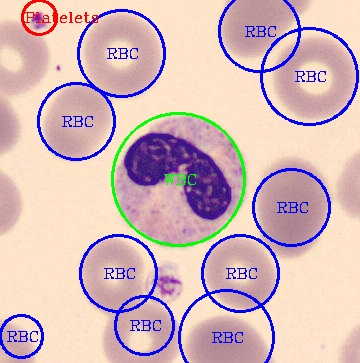Platelets: (145, 259, 187, 305), (25, 6, 52, 32)
RBC: (256, 152, 332, 261), (271, 32, 358, 123), (81, 8, 165, 101), (41, 81, 113, 165), (202, 235, 278, 312), (216, 0, 313, 60), (77, 236, 145, 316), (100, 298, 183, 361), (184, 313, 279, 361), (0, 17, 51, 96)
WBC: (114, 111, 249, 246)
